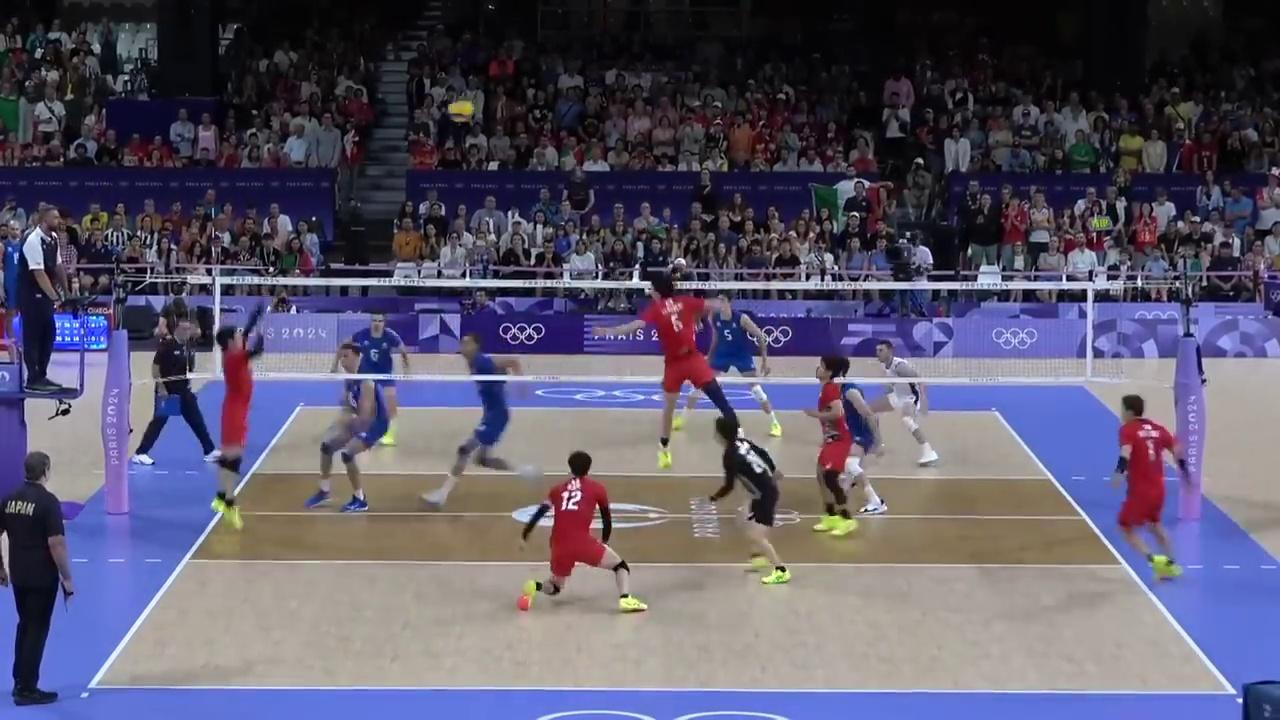ball: (445, 101, 473, 123)
